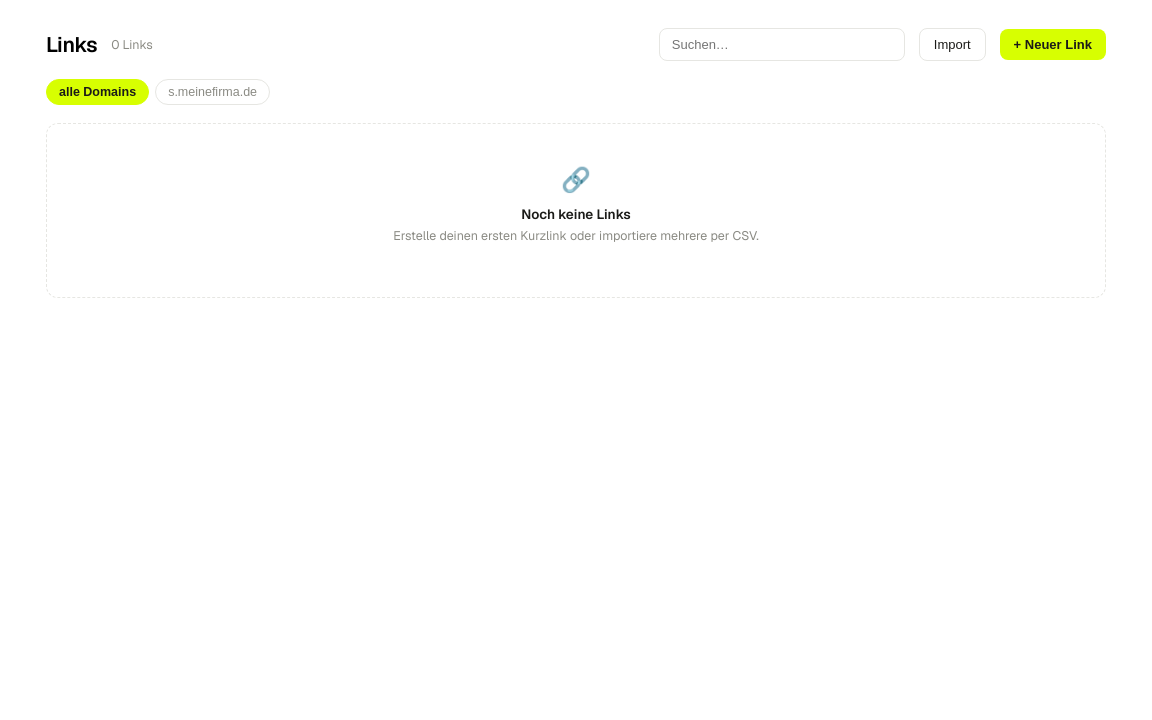
Test case: LinksView › WR-09: a non-ApiError create failure (e.g. a network error) surfaces a fallback toast instead of failing silently
Click the button "+ Neuer Link": (1053, 44) 1000,29 -> 1106,60
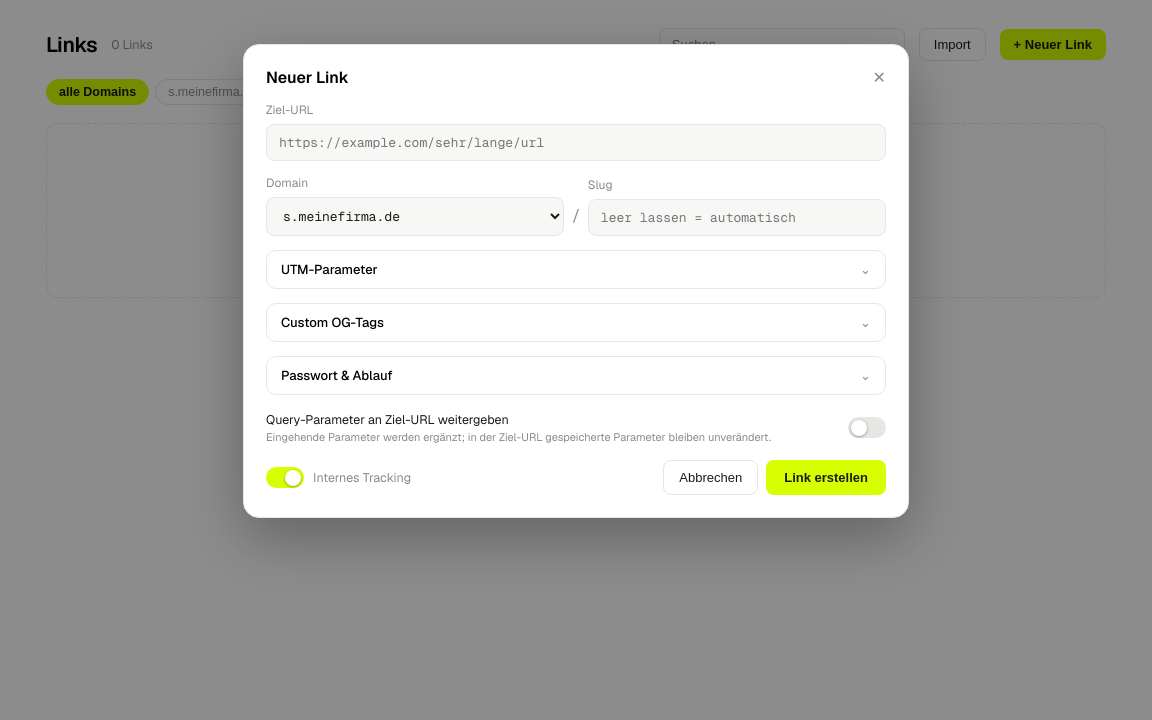
In the 1st field with class "mono": (576, 142) 266,124 -> 886,161, type "https://example.com/n"
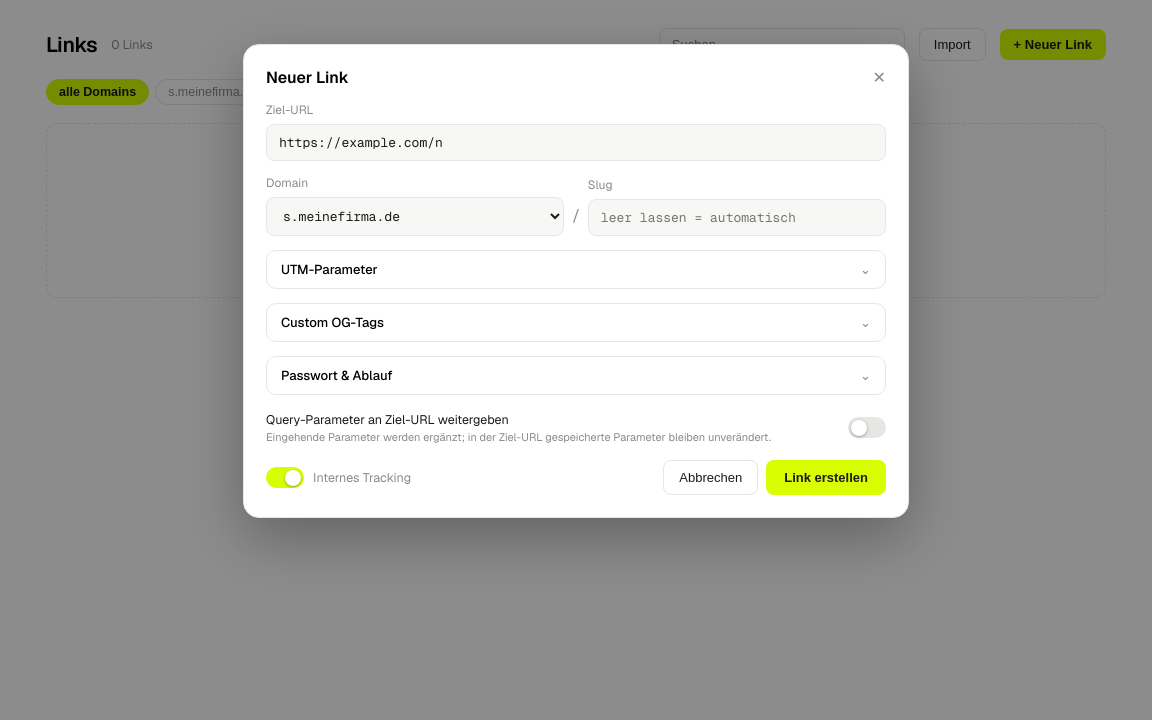
Click the button "Link erstellen": (826, 478) 766,460 -> 886,495
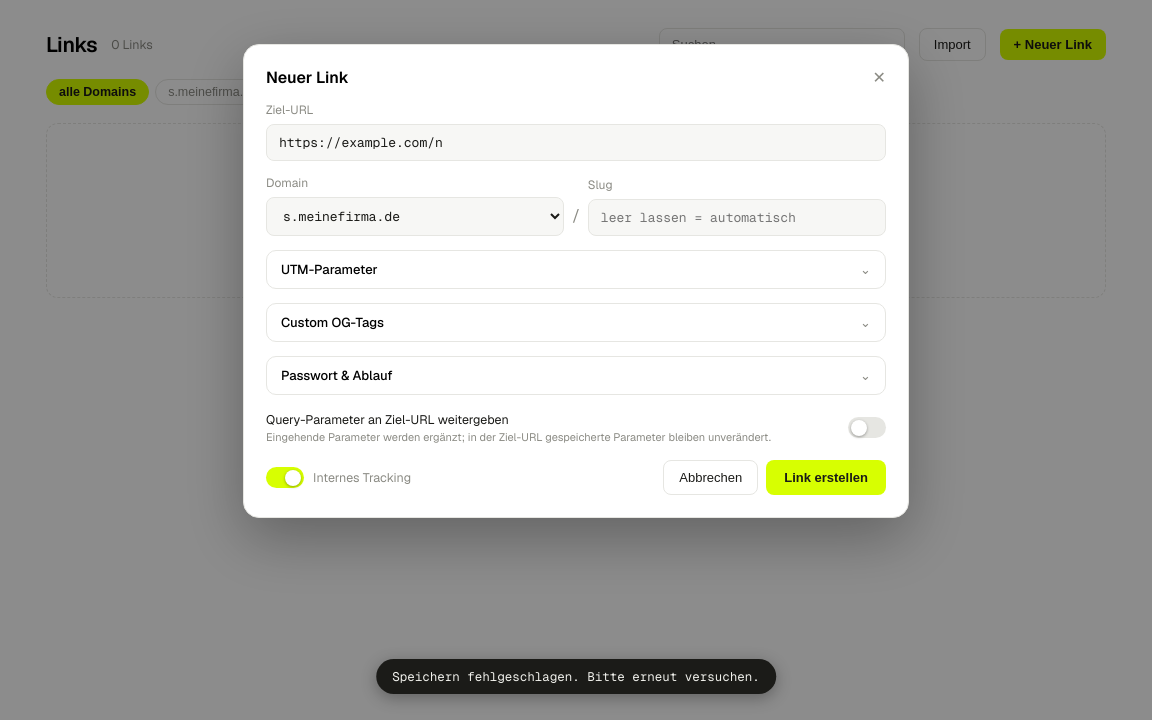
Check: the text with class "toast" reads "Speichern fehlgeschlagen. Bitte erneut versuchen.", box 392,668 -> 760,685
